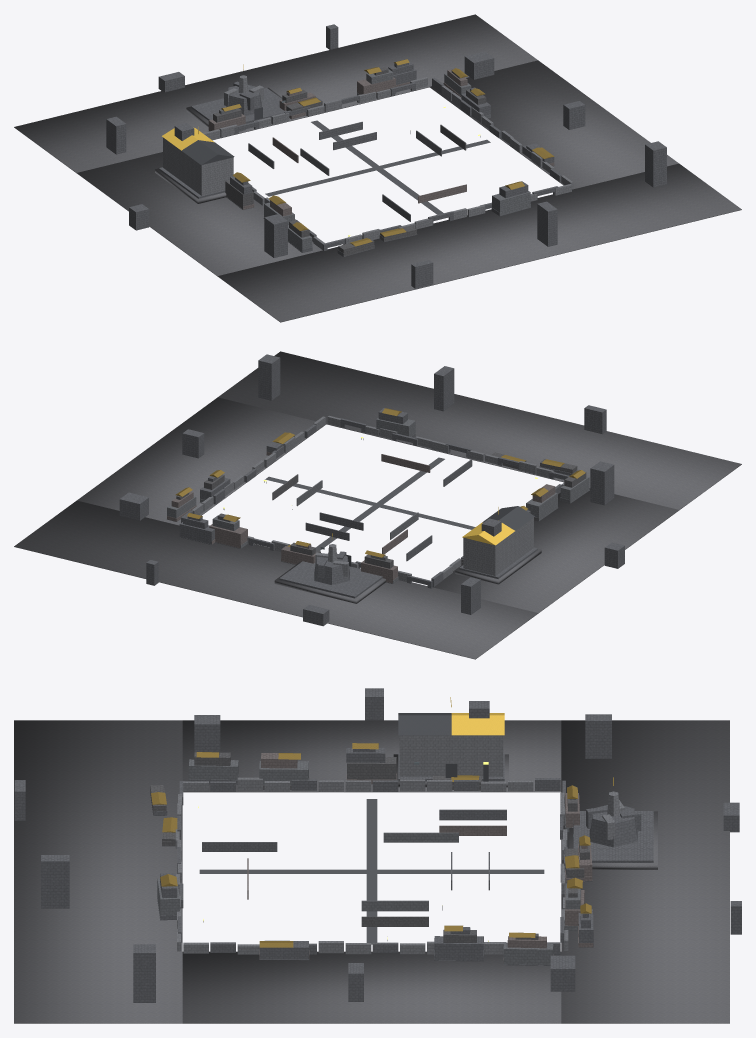
3 views of the same model, one above another, from view 1: azimuth 30°, elevation 25°; view 2: azimuth 150°, elevation 25°; view 3: azimuth 270°, elevation 25° (orthographic). The views are drawn at different scales.
Parts seen in each view (by area): view 1: HB_z08_LOD2_terrain, HB_z08_LOD2_wall_alt, HB_z08_LOD2_wall, HB_z08_LOD2_wall_weathered, HB_z08_LOD2_wall_cool, HB_z08_LOD2_wall_warm, HB_z08_LOD2_LANDMARK_1_wall, HB_z08_LOD2_road, HB_z08_LOD2_LANDMARK_0_wall_alt, HB_z08_LOD2_roof, HB_z08_LOD2_LANDMARK_1_trim, HB_z08_LOD2_LANDMARK_1_wall_alt; view 2: HB_z08_LOD2_terrain, HB_z08_LOD2_wall_alt, HB_z08_LOD2_wall, HB_z08_LOD2_wall_warm, HB_z08_LOD2_wall_cool, HB_z08_LOD2_LANDMARK_0_wall_alt, HB_z08_LOD2_LANDMARK_1_wall, HB_z08_LOD2_road, HB_z08_LOD2_wall_weathered, HB_z08_LOD2_roof, HB_z08_LOD2_LANDMARK_0_terrain, HB_z08_LOD2_LANDMARK_1_trim (+3 smaller); view 3: HB_z08_LOD2_terrain, HB_z08_LOD2_wall_alt, HB_z08_LOD2_wall, HB_z08_LOD2_wall_cool, HB_z08_LOD2_LANDMARK_1_wall, HB_z08_LOD2_wall_weathered, HB_z08_LOD2_LANDMARK_0_wall_alt, HB_z08_LOD2_road, HB_z08_LOD2_wall_warm, HB_z08_LOD2_roof, HB_z08_LOD2_LANDMARK_1_trim, HB_z08_LOD2_LANDMARK_1_accent (+3 smaller).
Boxes of the visible parts, x1,y1,x2,y2 form: HB_z08_LOD2_terrain: [14, 14, 741, 322]; HB_z08_LOD2_wall_alt: [106, 24, 666, 288]; HB_z08_LOD2_wall: [203, 77, 573, 249]; HB_z08_LOD2_wall_weathered: [213, 67, 486, 256]; HB_z08_LOD2_wall_cool: [208, 68, 530, 252]; HB_z08_LOD2_wall_warm: [208, 69, 554, 216]; HB_z08_LOD2_LANDMARK_1_wall: [163, 137, 233, 195]; HB_z08_LOD2_road: [265, 120, 490, 214]; HB_z08_LOD2_LANDMARK_0_wall_alt: [191, 81, 286, 123]; HB_z08_LOD2_roof: [221, 59, 554, 246]; HB_z08_LOD2_LANDMARK_1_trim: [182, 140, 234, 164]; HB_z08_LOD2_LANDMARK_1_wall_alt: [159, 123, 225, 198]; HB_z08_LOD2_terrain: [14, 351, 741, 659]; HB_z08_LOD2_wall_alt: [119, 354, 624, 626]; HB_z08_LOD2_wall: [191, 415, 564, 581]; HB_z08_LOD2_wall_warm: [167, 452, 555, 583]; HB_z08_LOD2_wall_cool: [167, 418, 589, 583]; HB_z08_LOD2_LANDMARK_0_wall_alt: [279, 551, 382, 598]; HB_z08_LOD2_LANDMARK_1_wall: [463, 517, 533, 575]; HB_z08_LOD2_road: [265, 457, 475, 550]; HB_z08_LOD2_wall_weathered: [176, 452, 586, 568]; HB_z08_LOD2_roof: [175, 408, 585, 557]; HB_z08_LOD2_LANDMARK_0_terrain: [274, 562, 385, 603]; HB_z08_LOD2_LANDMARK_1_trim: [482, 506, 534, 530]; HB_z08_LOD2_terrain: [14, 720, 729, 1023]; HB_z08_LOD2_wall_alt: [14, 688, 741, 1002]; HB_z08_LOD2_wall: [175, 777, 568, 954]; HB_z08_LOD2_wall_cool: [157, 759, 580, 965]; HB_z08_LOD2_LANDMARK_1_wall: [399, 735, 503, 776]; HB_z08_LOD2_wall_weathered: [150, 752, 589, 942]; HB_z08_LOD2_LANDMARK_0_wall_alt: [573, 805, 653, 862]; HB_z08_LOD2_road: [199, 799, 544, 944]; HB_z08_LOD2_wall_warm: [247, 753, 593, 963]; HB_z08_LOD2_roof: [151, 743, 591, 947]; HB_z08_LOD2_LANDMARK_1_trim: [398, 713, 488, 781]; HB_z08_LOD2_LANDMARK_1_accent: [450, 697, 504, 735].
Size of the model in its own units: 568 by 65.55 by 561.
12 materials, 10 textured.
